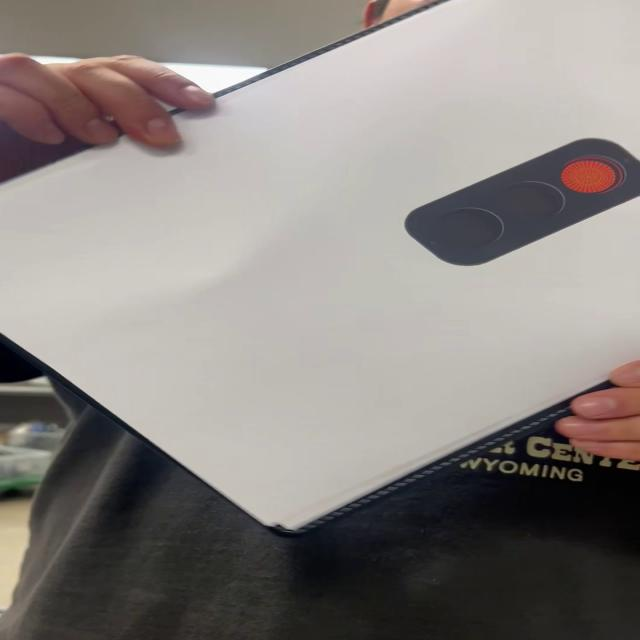red: (405, 138, 640, 270)
